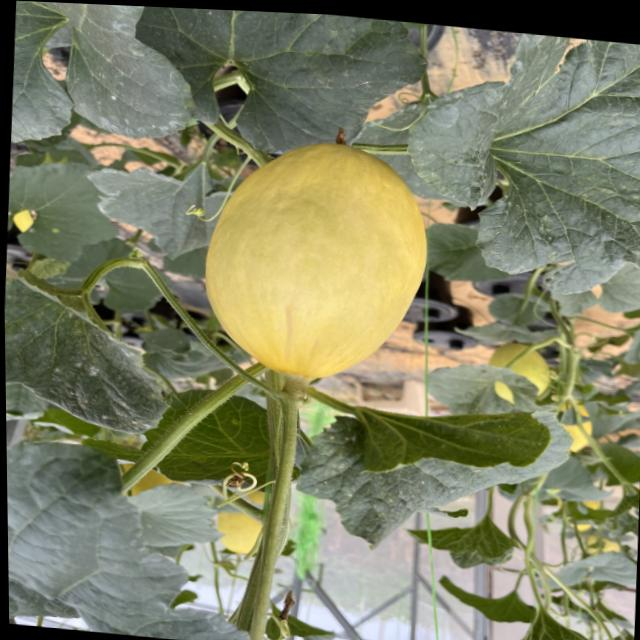SLCV: (4, 257, 182, 442)
downy mildew: (359, 18, 640, 293), (281, 347, 583, 586), (139, 6, 416, 160), (4, 266, 184, 443), (9, 0, 207, 160)
